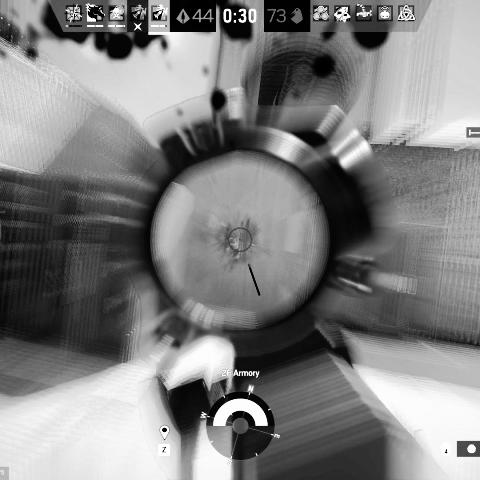Character: (224, 237, 242, 262)
Head: (228, 238, 238, 252)
